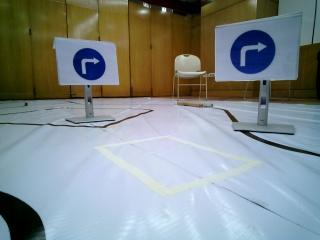right: (215, 25, 294, 78), (56, 36, 117, 81)
